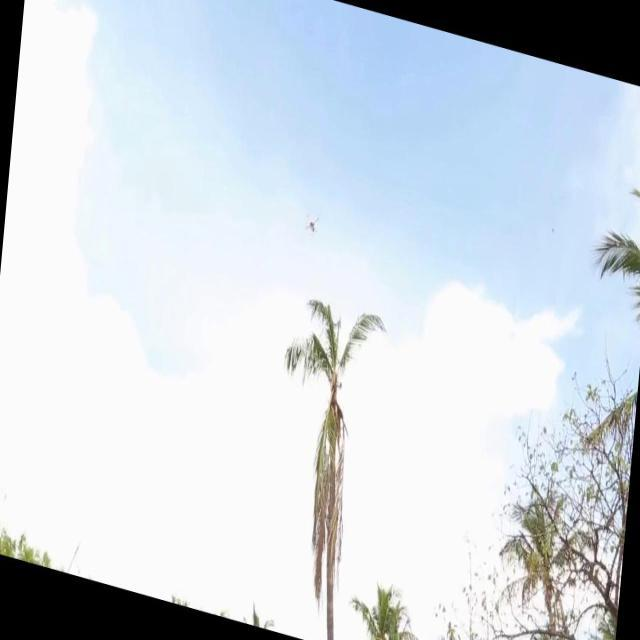drone: (302, 205, 320, 238)
